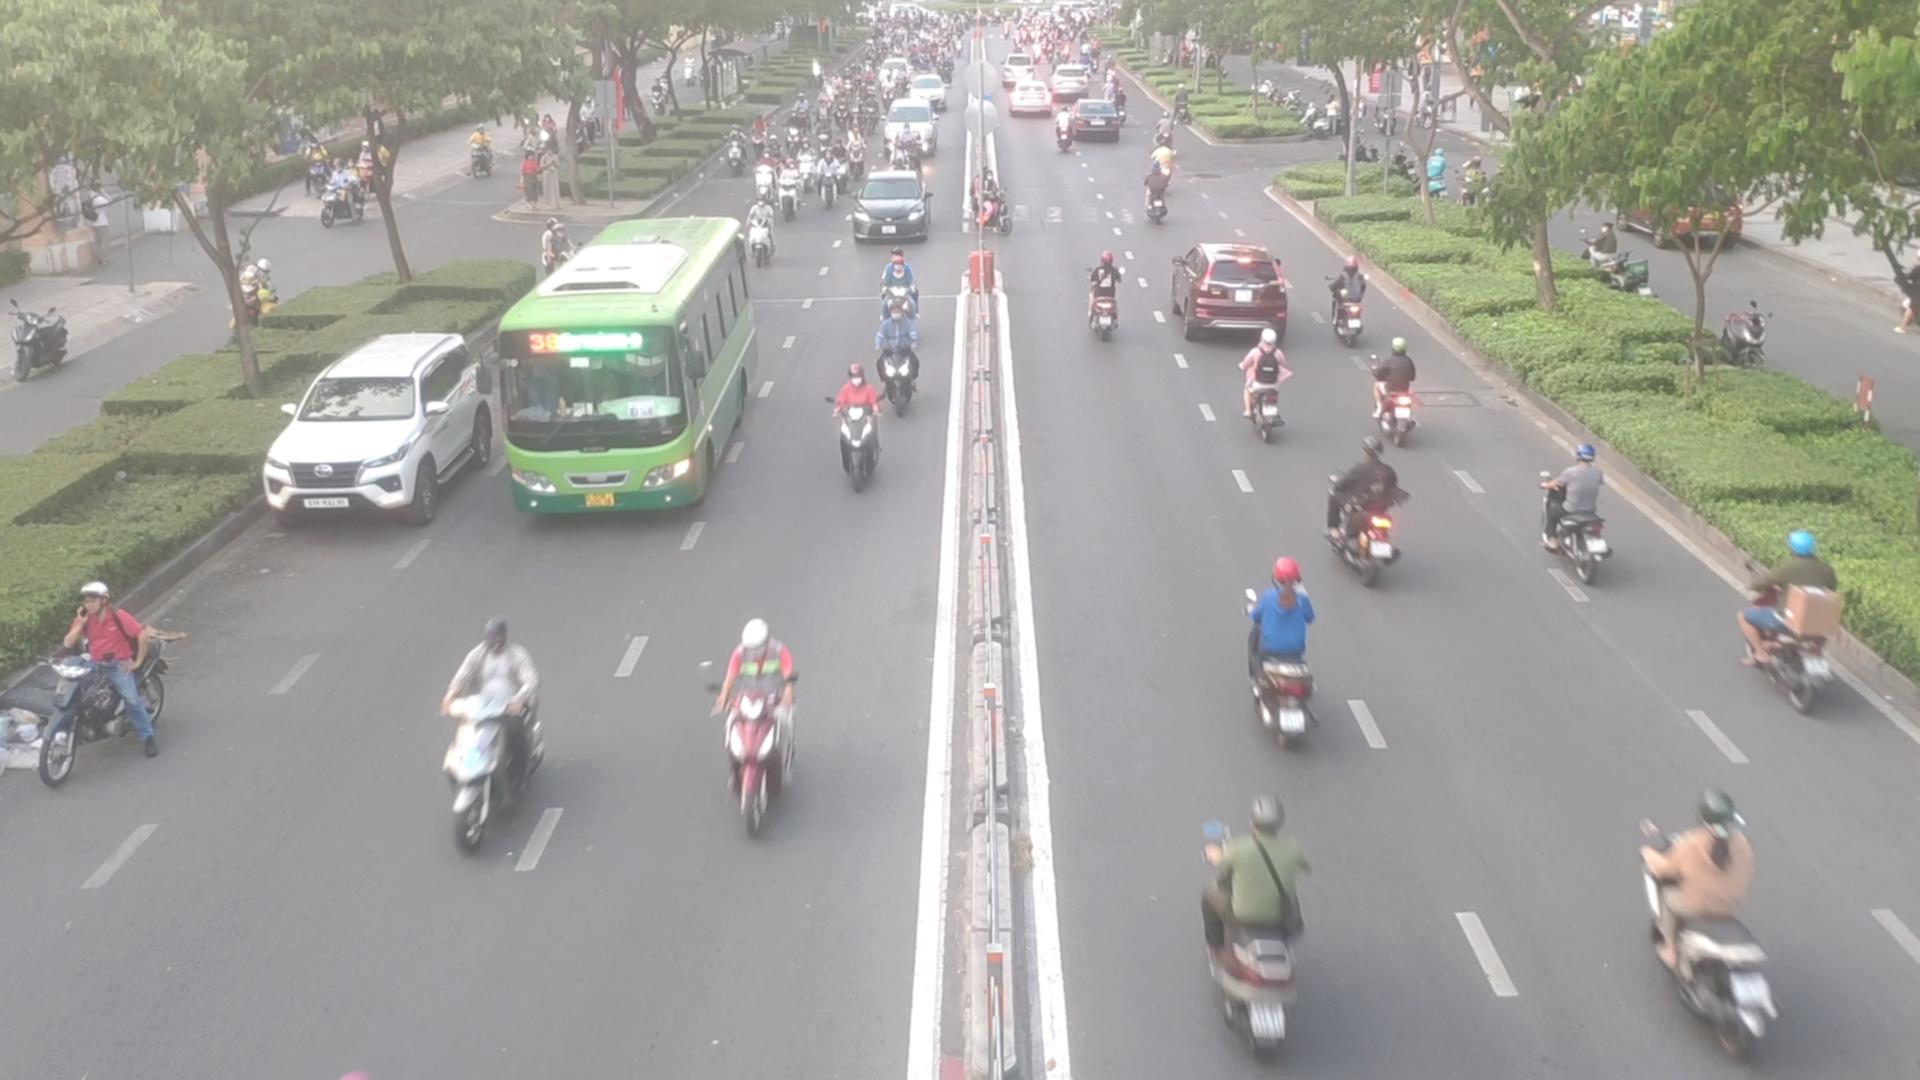bus: (492, 218, 767, 520)
car: (266, 332, 520, 527), (1174, 243, 1294, 342), (847, 173, 931, 245)
motorbike: (1640, 789, 1787, 1058), (1199, 786, 1315, 1059), (429, 622, 549, 845), (22, 585, 169, 767), (1722, 567, 1888, 717), (698, 620, 800, 833), (1234, 568, 1332, 732), (1328, 448, 1414, 583), (1534, 454, 1617, 588), (827, 365, 906, 487), (1237, 328, 1294, 438), (1369, 342, 1425, 448), (880, 295, 920, 415), (1077, 257, 1127, 343), (1327, 272, 1377, 348), (1143, 160, 1174, 223)
